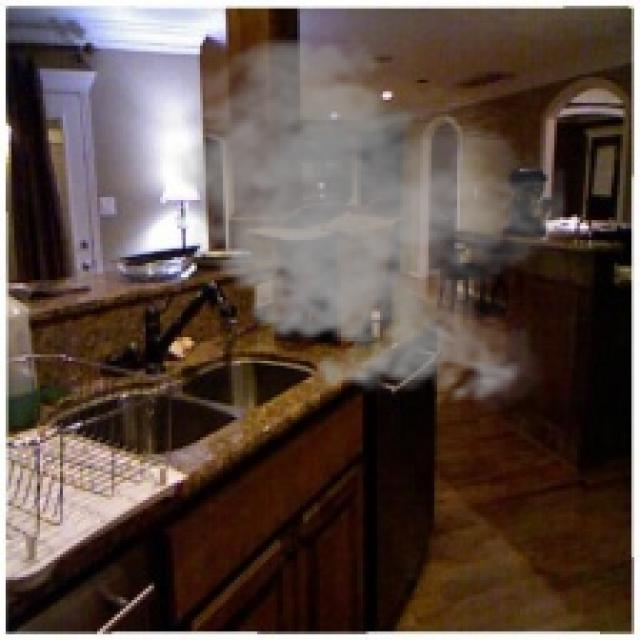smoke: (163, 29, 568, 414)
